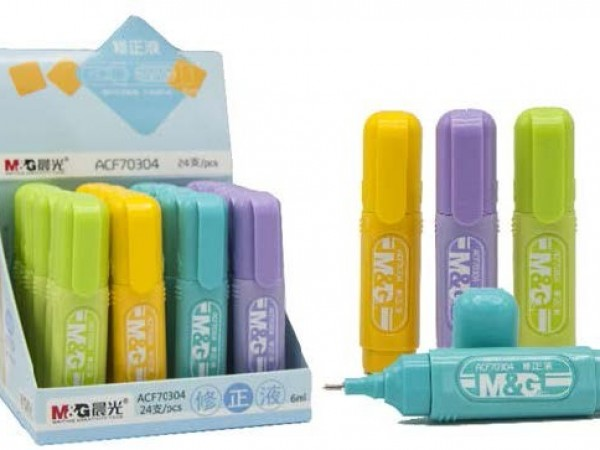Correction_fluid: (320, 344, 600, 427), (353, 104, 427, 368), (510, 101, 581, 354), (430, 103, 500, 350), (224, 179, 297, 379), (168, 186, 233, 377), (109, 191, 170, 384), (47, 190, 107, 385)
